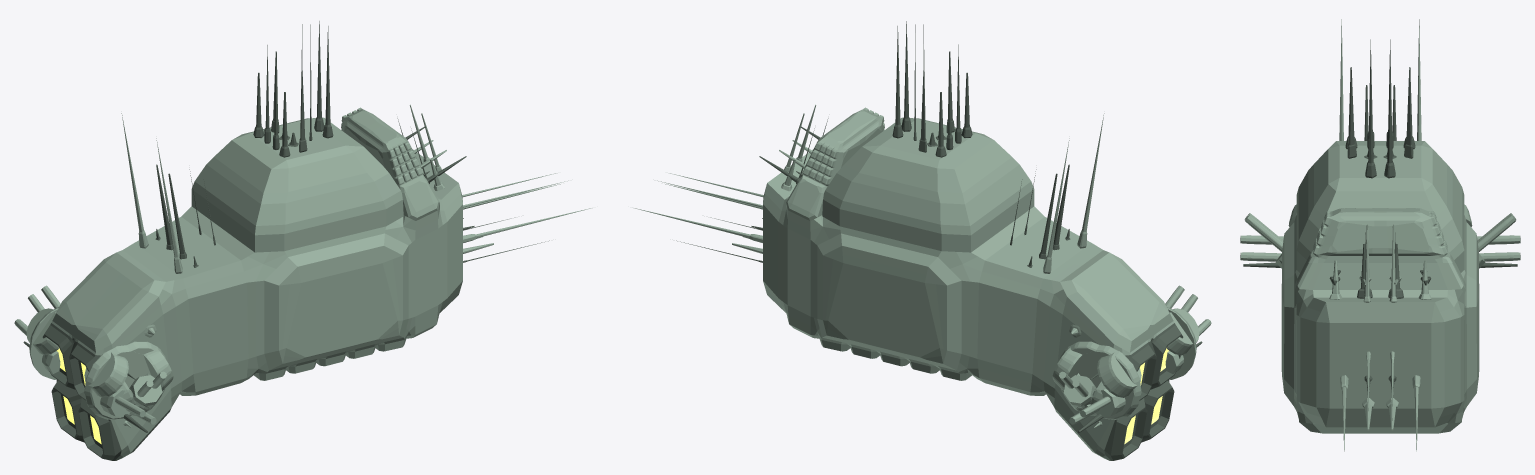
The model's file is pvais4.fbx.
3 views of the same model, side by side, from view 1: azimuth 30°, elevation 25°; view 2: azimuth 150°, elevation 25°; view 3: azimuth 270°, elevation 25° (orthographic). The views are drawn at different scales.
Visible parts, largest first — view 1: Spaceship; view 2: Spaceship; view 3: Spaceship.
Part boxes in pixels (left/top/right/bottom): Spaceship: left=14, top=21, right=591, bottom=460; Spaceship: left=634, top=21, right=1211, bottom=460; Spaceship: left=1240, top=19, right=1520, bottom=451.
Bounding box in the file's own units: 642 × 442 × 266.
